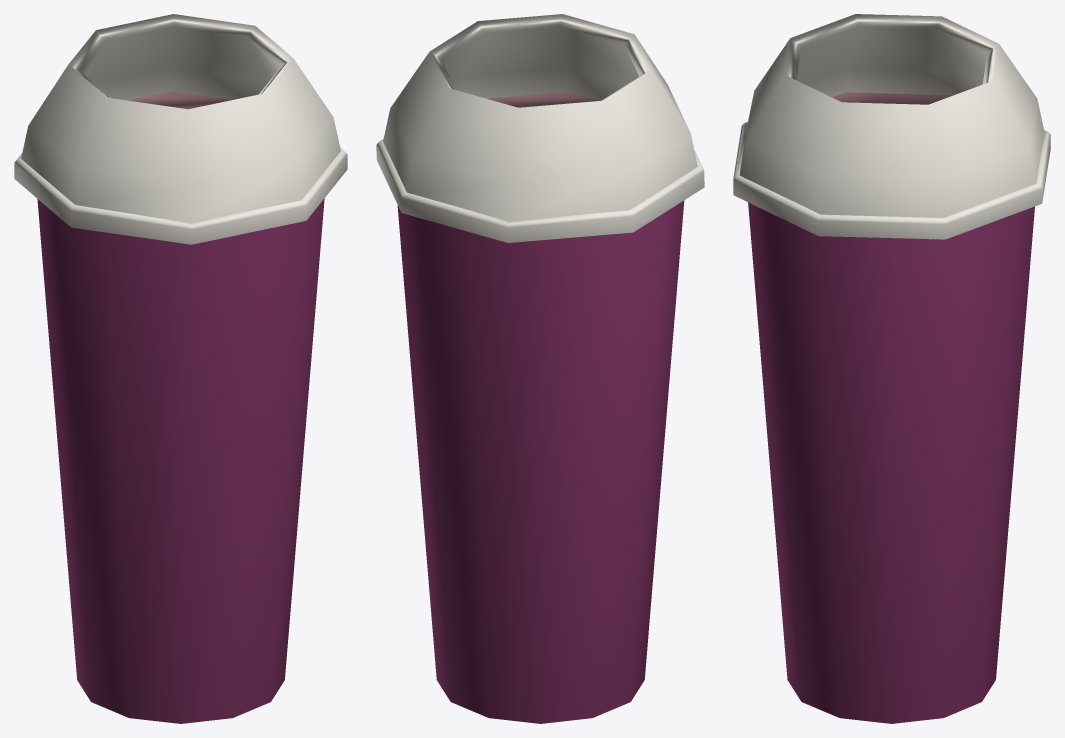
File: SLurpee_Cup_LP.fbx
3 views of the same model, side by side, from view 1: azimuth 30°, elevation 25°; view 2: azimuth 150°, elevation 25°; view 3: azimuth 270°, elevation 25° (orthographic).
Parts seen in each view (by area): view 1: polySurface1; view 2: polySurface1; view 3: polySurface1.
Boxes of the visible parts, x1=… form: polySurface1: x1=14, y1=14, x2=347, y2=723; polySurface1: x1=376, y1=14, x2=704, y2=723; polySurface1: x1=733, y1=14, x2=1050, y2=723.
Bounding box in the file's own units: 5.97 × 12.87 × 5.97.
